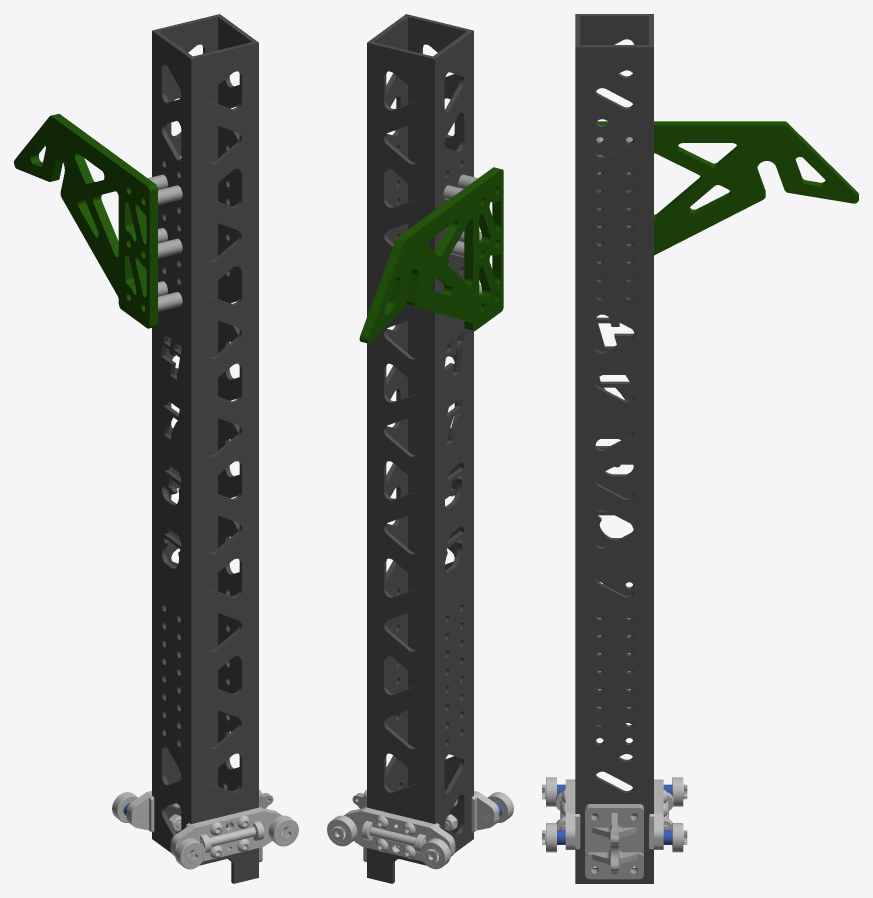
3 views of the same model, side by side, from view 1: azimuth 30°, elevation 25°; view 2: azimuth 150°, elevation 25°; view 3: azimuth 270°, elevation 25° (orthographic).
Visible parts, largest first — view 1: Climb Sliding Tube Left, Part 1, Sliding Bearing Block Plate - SLIDE-001 (×2), TTB-0038_75OD_25ID_28WD (×2); view 2: Climb Sliding Tube Left, Part 1, Sliding Bearing Block Plate - SLIDE-001 (×2), TTB-0038_75OD_25ID_28WD (×3), .25diameter_1.75inSteelDowel_SLIDE-002; view 3: Climb Sliding Tube Left, Part 1, Chain Block, Sliding Bearing Block Plate - SLIDE-001 (×2).
Boxes of the visible parts, bbox=[...] form: Climb Sliding Tube Left: bbox=[152, 14, 258, 883]; Part 1: bbox=[14, 114, 157, 328]; Sliding Bearing Block Plate - SLIDE-001 (×2): bbox=[126, 790, 281, 861]; TTB-0038_75OD_25ID_28WD (×2): bbox=[175, 815, 298, 869]; Climb Sliding Tube Left: bbox=[367, 14, 473, 883]; Part 1: bbox=[359, 167, 503, 343]; Sliding Bearing Block Plate - SLIDE-001 (×2): bbox=[344, 790, 499, 861]; TTB-0038_75OD_25ID_28WD (×3): bbox=[327, 792, 513, 869]; .25diameter_1.75inSteelDowel_SLIDE-002: bbox=[369, 827, 425, 846]; Climb Sliding Tube Left: bbox=[575, 14, 653, 883]; Part 1: bbox=[596, 121, 858, 255]; Chain Block: bbox=[585, 804, 643, 879]; Sliding Bearing Block Plate - SLIDE-001 (×2): bbox=[565, 779, 663, 849].
Bounding box in the file's own units: 0.1014 × 0.5969 × 0.2049.
